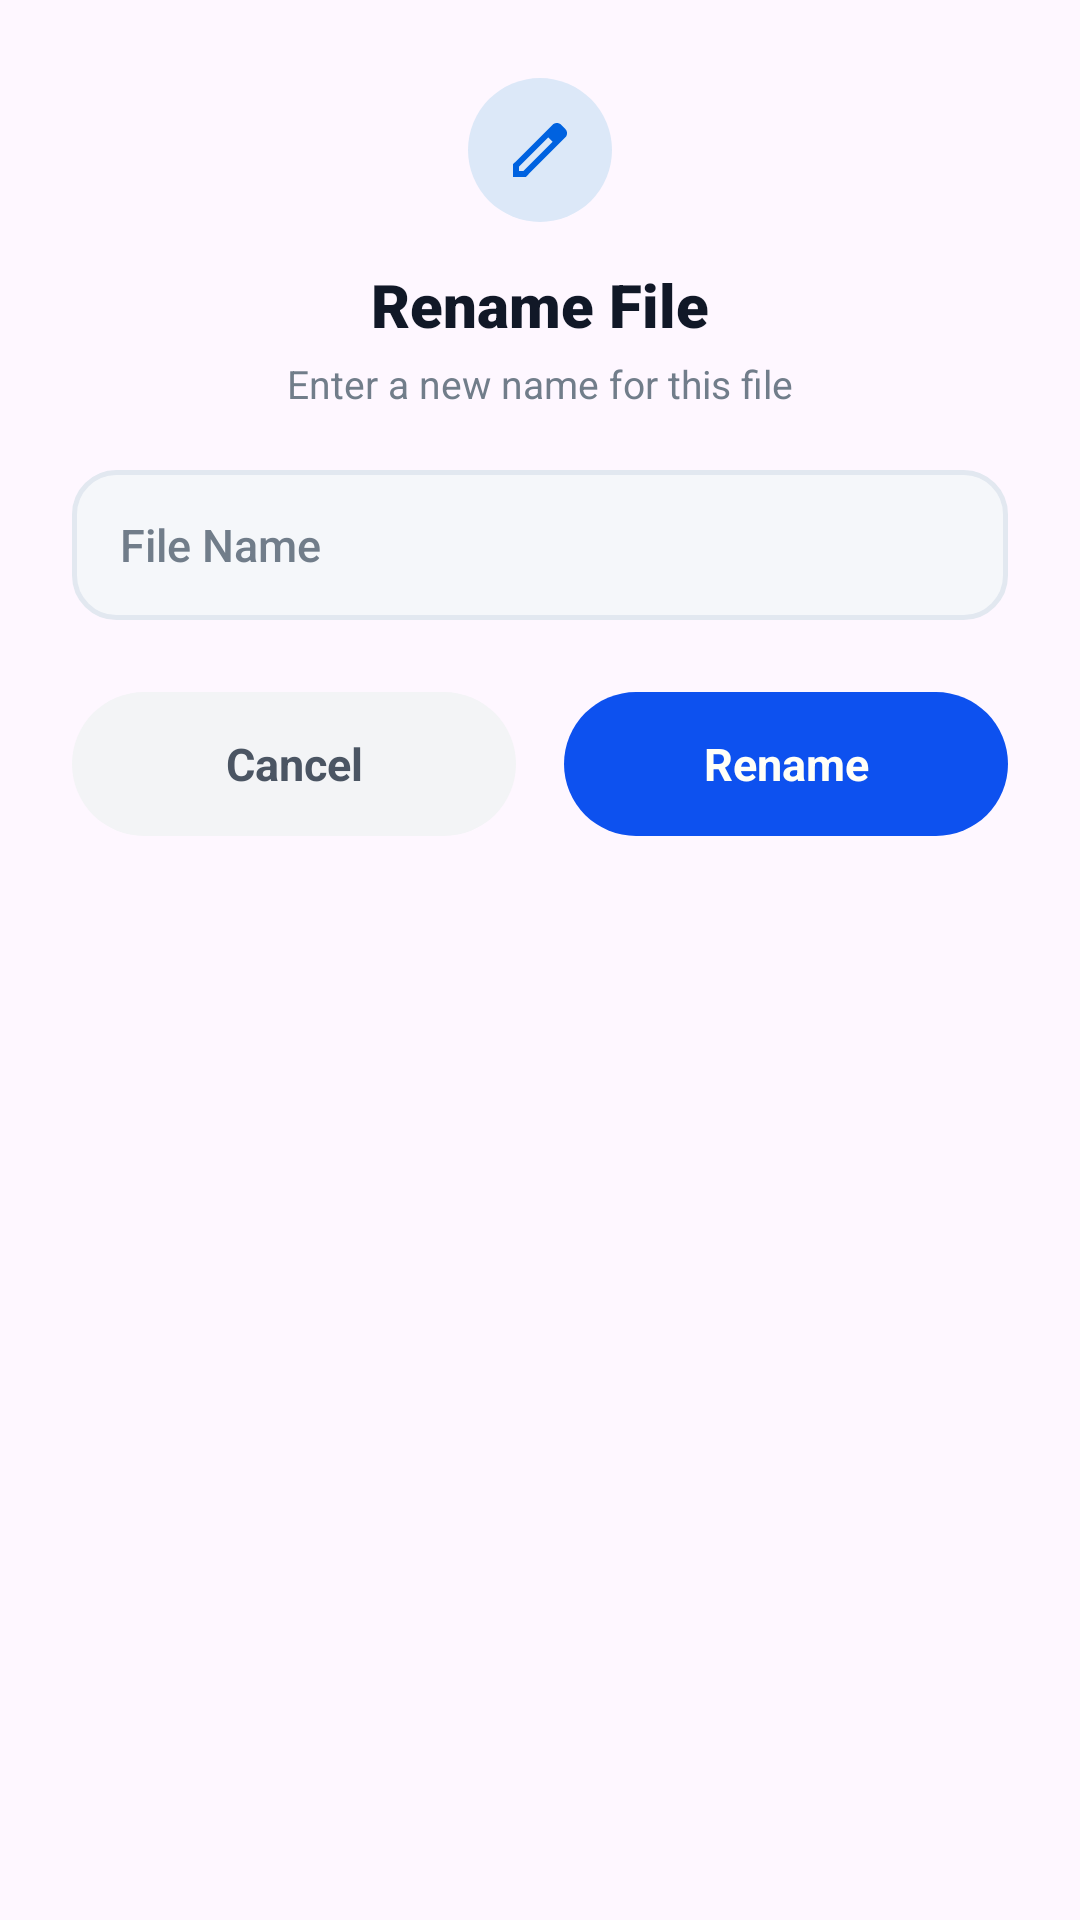

Icons on this 1080px×1920px Android screen, each with the point to tap as point (x, y):
edit: point (540, 150)
